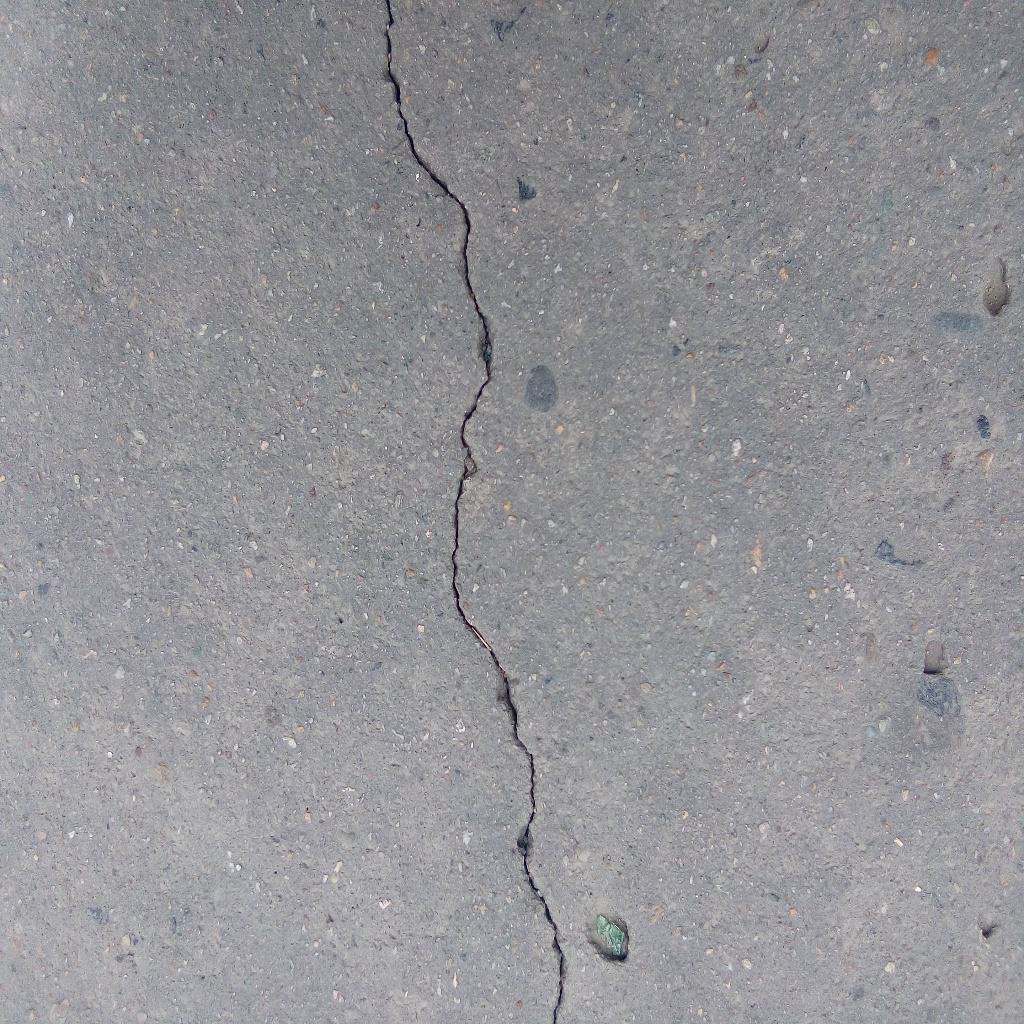Crack: (382, 1, 565, 1024)
Spalling: (584, 909, 630, 961), (982, 256, 1012, 318), (922, 639, 946, 676), (752, 28, 771, 54)
